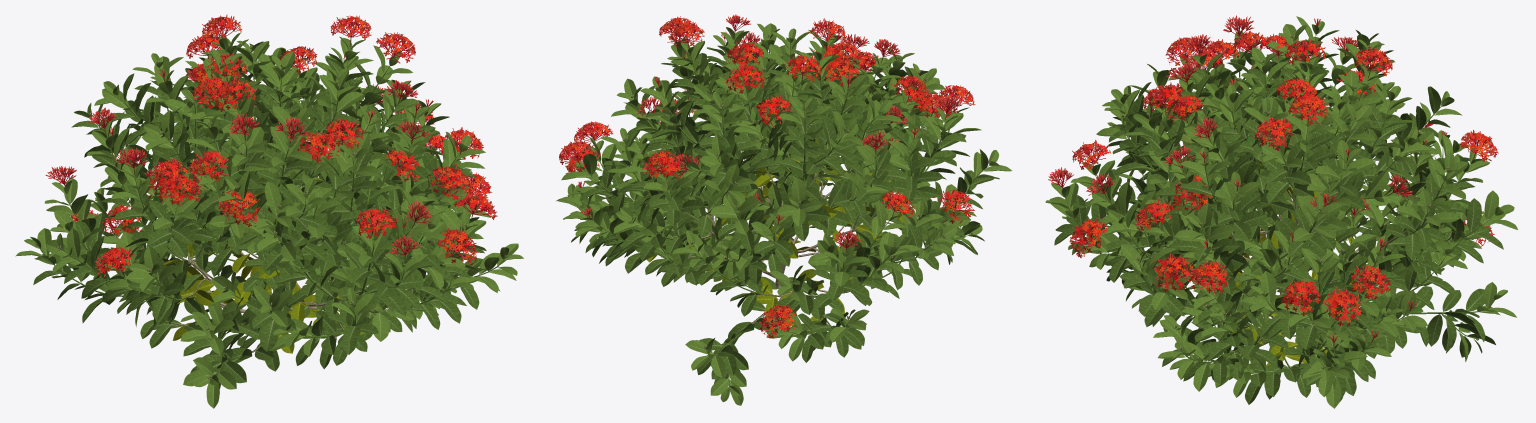
The model's file is realistic_hd_chinese_jungle_geranium_310.glb.
The picture shows the model from 3 angles, left to right: view 1: azimuth 30°, elevation 25°; view 2: azimuth 150°, elevation 25°; view 3: azimuth 270°, elevation 25°; orthographic projection. The views are drawn at different scales.
Visible parts, largest first — view 1: Ixora_chinensis_red_HD_Ixora leaf 01d_0, Ixora_chinensis_red_HD_Ixora leaf 01a_0, Ixora_chinensis_red_HD_Ixora tube_0, Ixora_chinensis_red_HD_Ixora flower 01_0, Ixora_chinensis_red_HD_Ixora flower 02_0, Ixora_chinensis_red_HD_Ixora flower 03_0, Ixora_chinensis_red_HD_Ixora leaf 01e_0, Ixora_chinensis_red_HD_Ixora twig_0, Ixora_chinensis_red_HD_Ixora branches_0, Ixora_chinensis_red_HD_Ixora flower stalk 2_0, Ixora_chinensis_red_HD_Ixora bud_0; view 2: Ixora_chinensis_red_HD_Ixora leaf 01d_0, Ixora_chinensis_red_HD_Ixora leaf 01a_0, Ixora_chinensis_red_HD_Ixora tube_0, Ixora_chinensis_red_HD_Ixora flower 01_0, Ixora_chinensis_red_HD_Ixora flower 02_0, Ixora_chinensis_red_HD_Ixora flower 03_0, Ixora_chinensis_red_HD_Ixora leaf 01e_0, Ixora_chinensis_red_HD_Ixora twig_0, Ixora_chinensis_red_HD_Ixora branches_0, Ixora_chinensis_red_HD_Ixora flower stalk 2_0, Ixora_chinensis_red_HD_Ixora bud_0; view 3: Ixora_chinensis_red_HD_Ixora leaf 01a_0, Ixora_chinensis_red_HD_Ixora leaf 01d_0, Ixora_chinensis_red_HD_Ixora tube_0, Ixora_chinensis_red_HD_Ixora flower 01_0, Ixora_chinensis_red_HD_Ixora flower 02_0, Ixora_chinensis_red_HD_Ixora flower 03_0, Ixora_chinensis_red_HD_Ixora twig_0, Ixora_chinensis_red_HD_Ixora flower stalk 2_0, Ixora_chinensis_red_HD_Ixora branches_0, Ixora_chinensis_red_HD_Ixora leaf 01e_0, Ixora_chinensis_red_HD_Ixora bud_0.
Part boxes in pixels (x1,y1,x2,y2): Ixora_chinensis_red_HD_Ixora leaf 01d_0: (33,58,484,389); Ixora_chinensis_red_HD_Ixora leaf 01a_0: (15,32,523,408); Ixora_chinensis_red_HD_Ixora tube_0: (45,14,497,276); Ixora_chinensis_red_HD_Ixora flower 01_0: (62,16,495,271); Ixora_chinensis_red_HD_Ixora flower 02_0: (73,15,495,275); Ixora_chinensis_red_HD_Ixora flower 03_0: (69,16,495,272); Ixora_chinensis_red_HD_Ixora leaf 01e_0: (123,177,364,353); Ixora_chinensis_red_HD_Ixora twig_0: (40,47,504,377); Ixora_chinensis_red_HD_Ixora branches_0: (81,108,431,359); Ixora_chinensis_red_HD_Ixora flower stalk 2_0: (58,26,486,270); Ixora_chinensis_red_HD_Ixora bud_0: (35,43,509,379); Ixora_chinensis_red_HD_Ixora leaf 01d_0: (574,50,993,379); Ixora_chinensis_red_HD_Ixora leaf 01a_0: (556,23,1011,405); Ixora_chinensis_red_HD_Ixora tube_0: (559,14,975,337); Ixora_chinensis_red_HD_Ixora flower 01_0: (559,18,972,338); Ixora_chinensis_red_HD_Ixora flower 02_0: (560,18,974,338); Ixora_chinensis_red_HD_Ixora flower 03_0: (559,18,973,334); Ixora_chinensis_red_HD_Ixora leaf 01e_0: (646,135,903,326); Ixora_chinensis_red_HD_Ixora twig_0: (574,38,989,387); Ixora_chinensis_red_HD_Ixora branches_0: (624,98,958,342); Ixora_chinensis_red_HD_Ixora flower stalk 2_0: (567,23,965,331); Ixora_chinensis_red_HD_Ixora bud_0: (567,34,994,391); Ixora_chinensis_red_HD_Ixora leaf 01a_0: (1045,16,1517,408); Ixora_chinensis_red_HD_Ixora leaf 01d_0: (1054,39,1503,404); Ixora_chinensis_red_HD_Ixora tube_0: (1048,15,1498,342); Ixora_chinensis_red_HD_Ixora flower 01_0: (1071,34,1496,321); Ixora_chinensis_red_HD_Ixora flower 02_0: (1070,33,1495,322); Ixora_chinensis_red_HD_Ixora flower 03_0: (1072,32,1497,326); Ixora_chinensis_red_HD_Ixora twig_0: (1066,35,1494,373); Ixora_chinensis_red_HD_Ixora flower stalk 2_0: (1057,25,1487,344); Ixora_chinensis_red_HD_Ixora branches_0: (1111,117,1450,369); Ixora_chinensis_red_HD_Ixora leaf 01e_0: (1165,156,1381,377); Ixora_chinensis_red_HD_Ixora bud_0: (1118,35,1499,369).
Bounding box in the file's own units: 1.69 × 1.24 × 1.62.
Materials: 14 (14 with a texture image).
